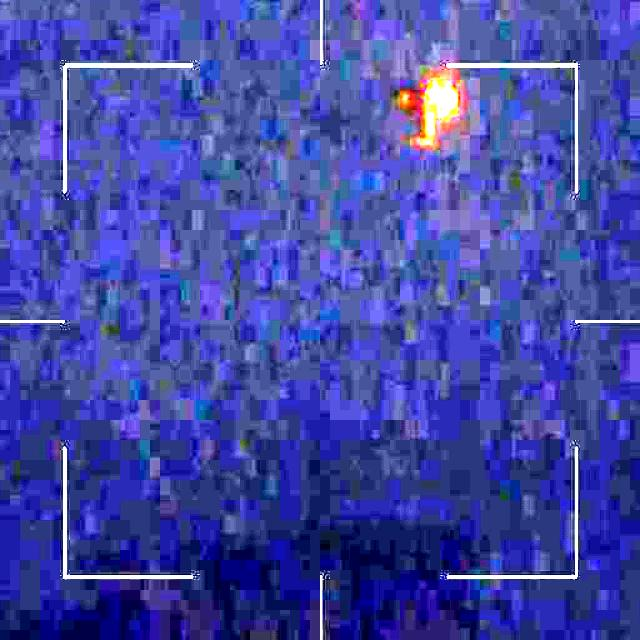bird: (389, 78, 461, 146)
